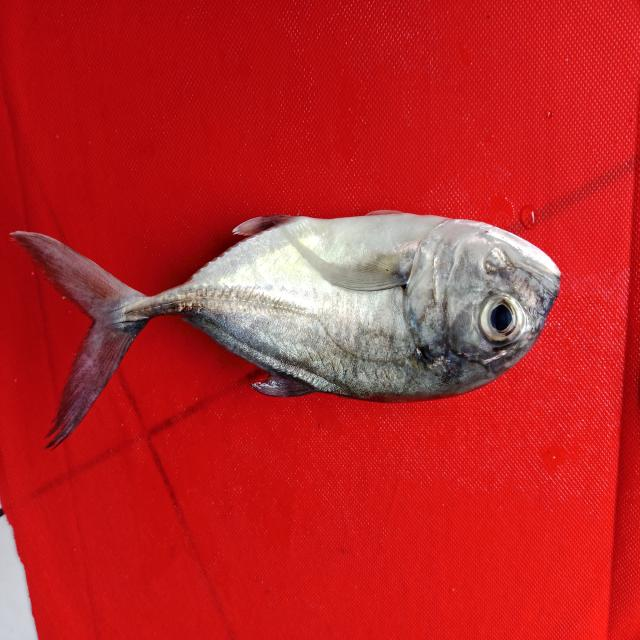ikan: (10, 158, 594, 474)
